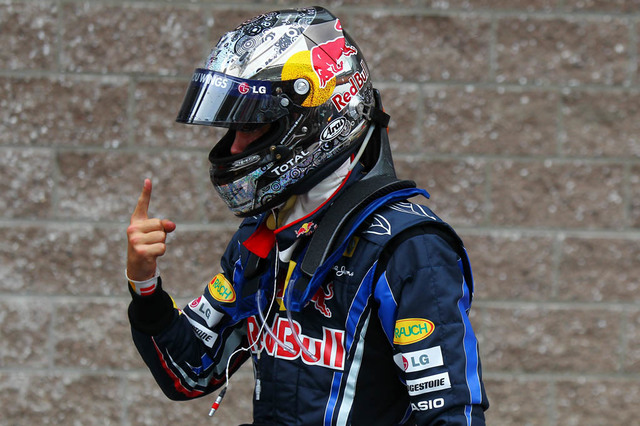helmet: (189, 14, 394, 203)
